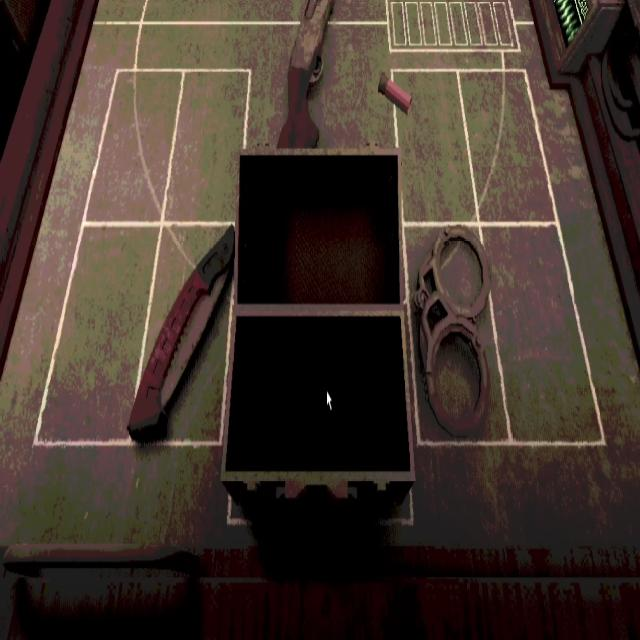doubledamage: (129, 226, 235, 444)
handcuff: (411, 228, 490, 438)
inventorybox: (221, 151, 414, 503)
